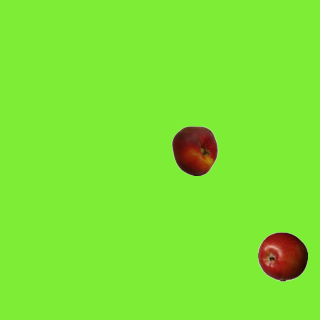Apple Braeburn: (257, 231, 307, 281)
Nectarine Flat: (169, 125, 219, 175)
